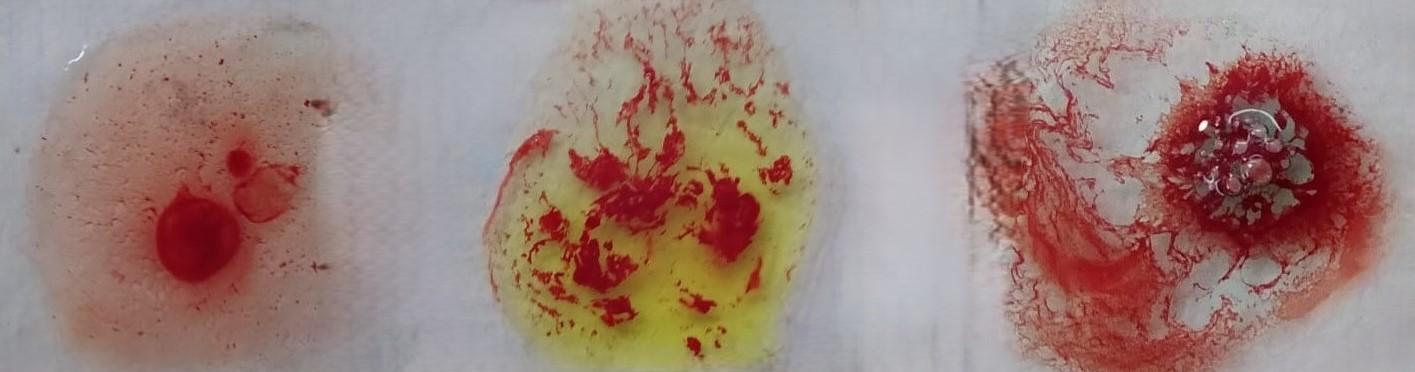A: (985, 2, 1378, 372)
B: (519, 15, 811, 372)
D: (36, 15, 354, 368)
